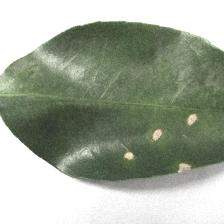canker: (117, 106, 206, 179)
